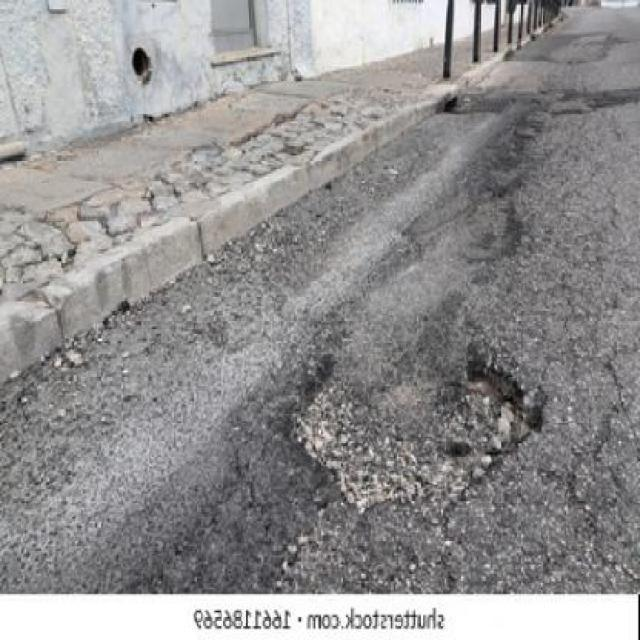Pothole: (295, 340, 544, 509)
